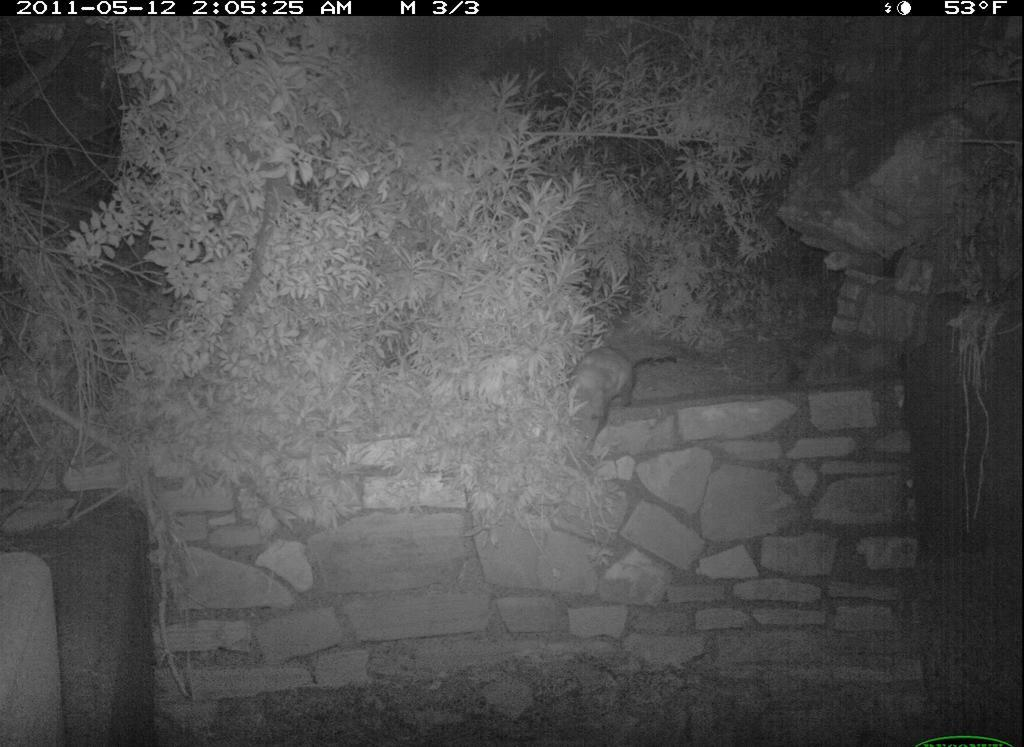opossum: (559, 332, 644, 469)
